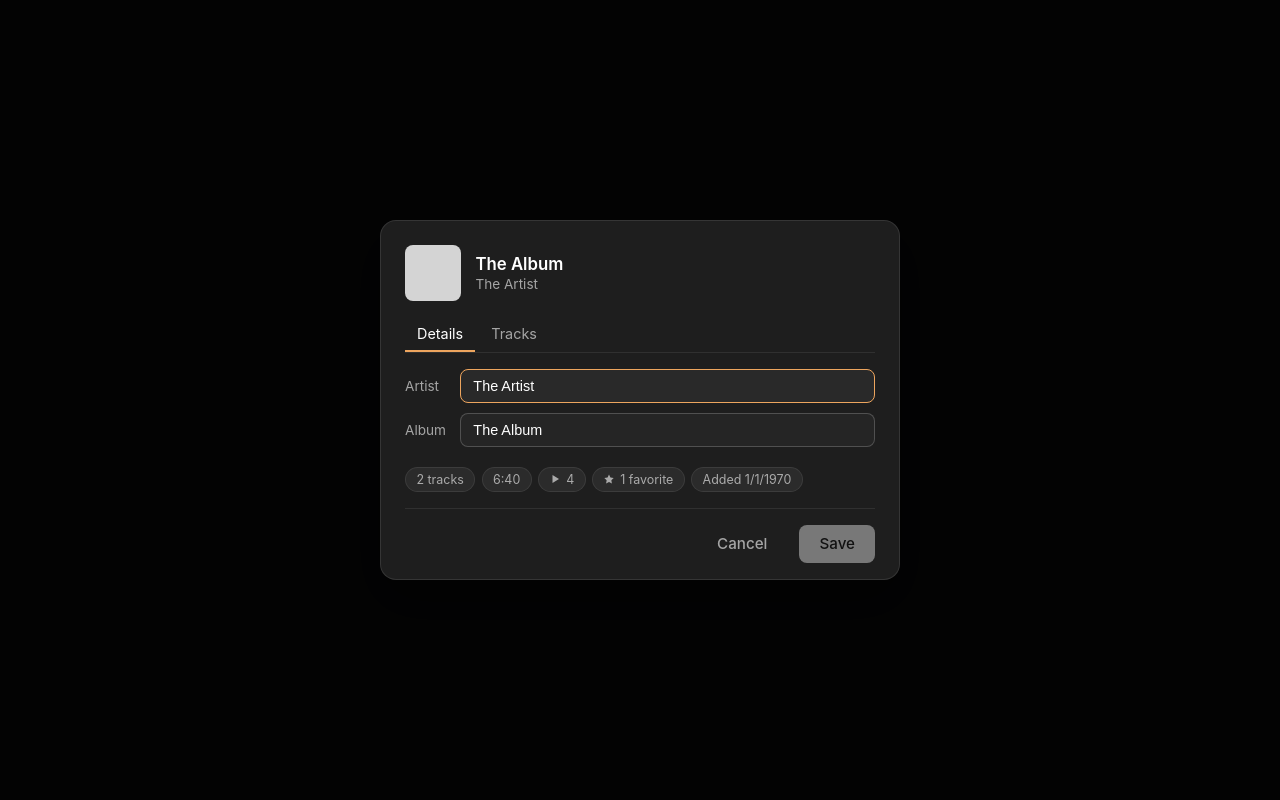
Test: AlbumInfoModal › lists every track on the Tracks tab
Expected: the field showing "The Artist" is shown, top-left (460, 369), bottom-right (875, 403)
Click the tab "Tracks": (514, 335) top-left (479, 317), bottom-right (549, 352)
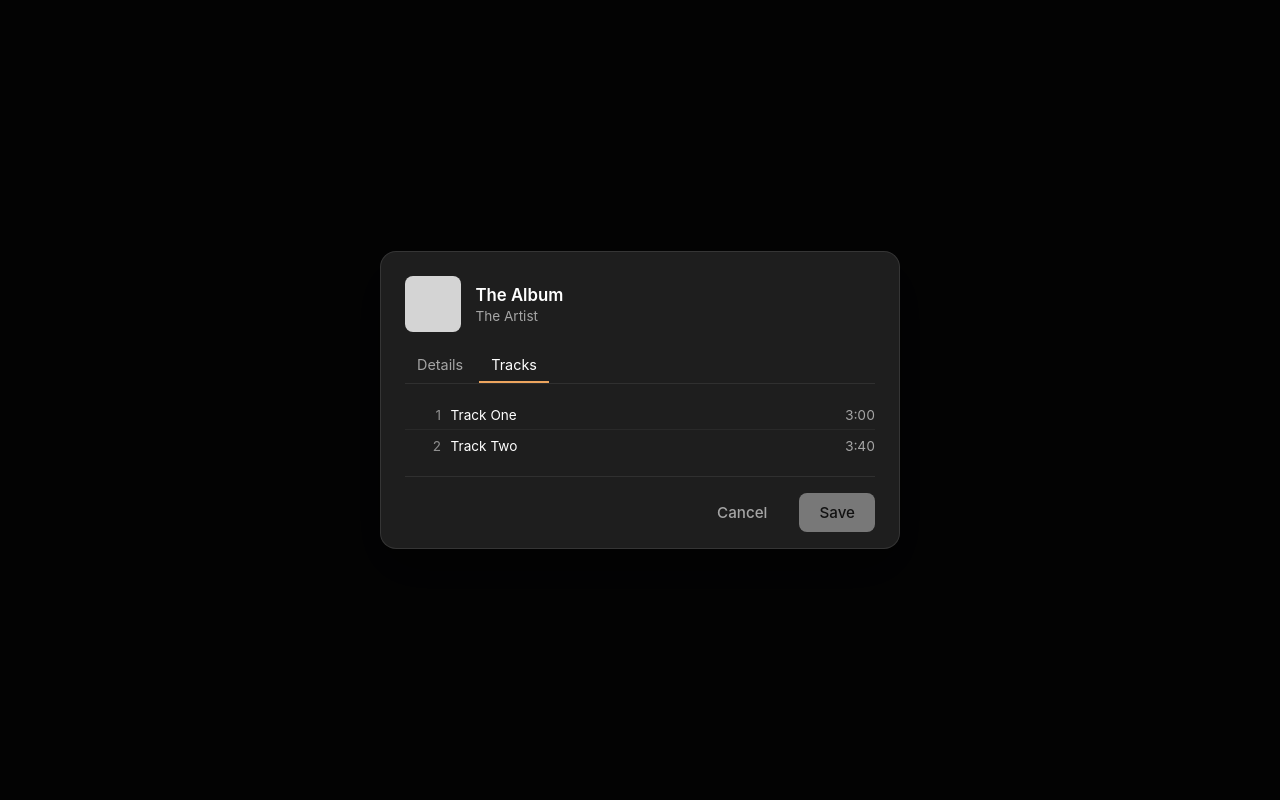
Expected: the text "Track One" is shown, top-left (451, 407), bottom-right (517, 423)
Expected: the text "Track Two" is shown, top-left (451, 438), bottom-right (517, 454)
